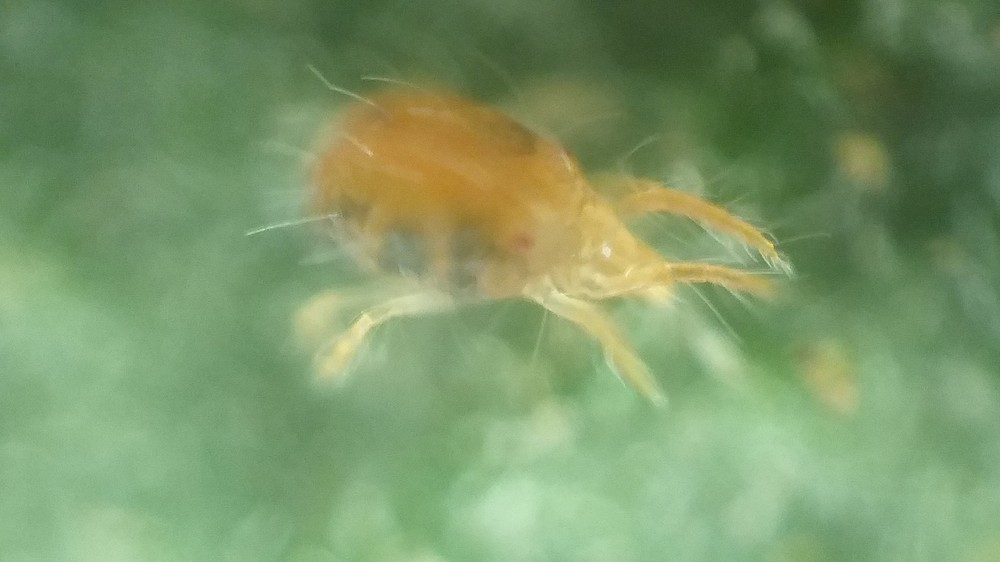Aracnido Rojo: (234, 37, 808, 459)
